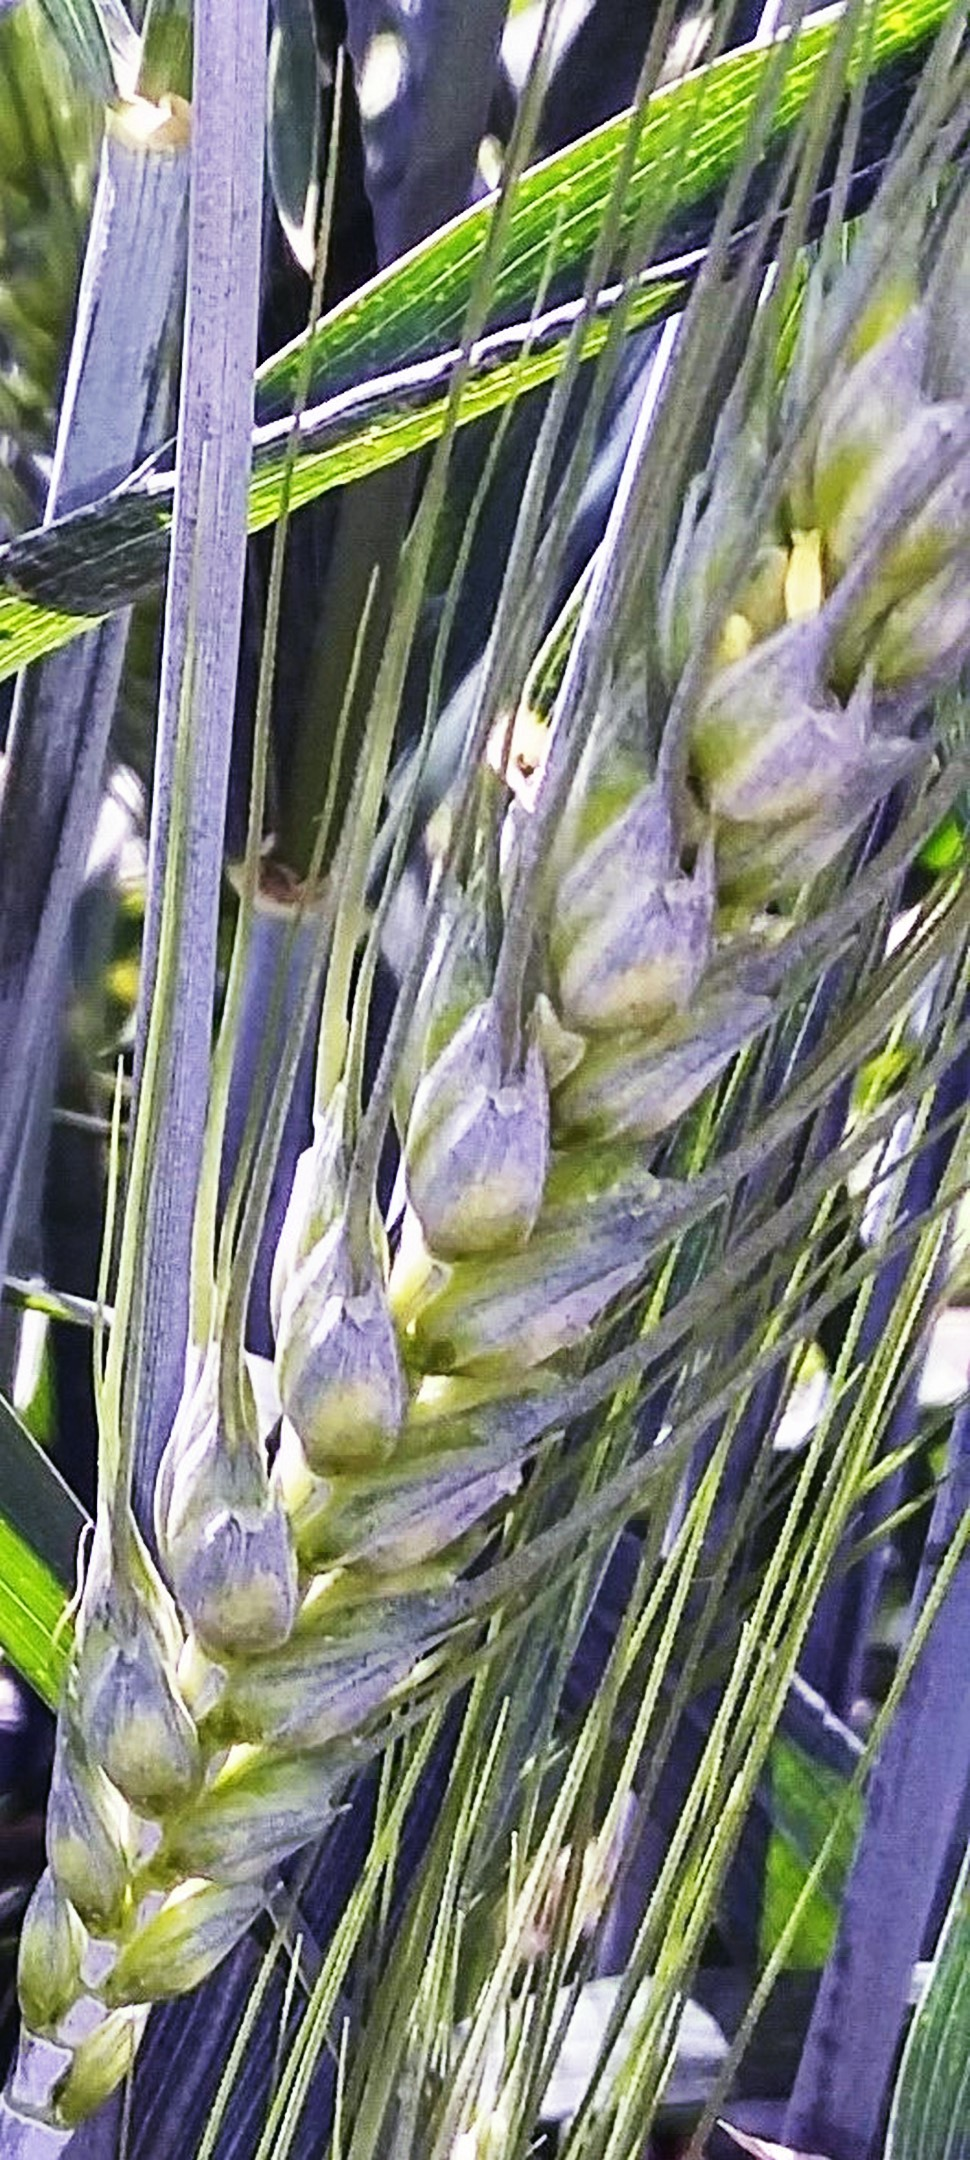Healthy Wheat: (61, 426, 970, 1989)
